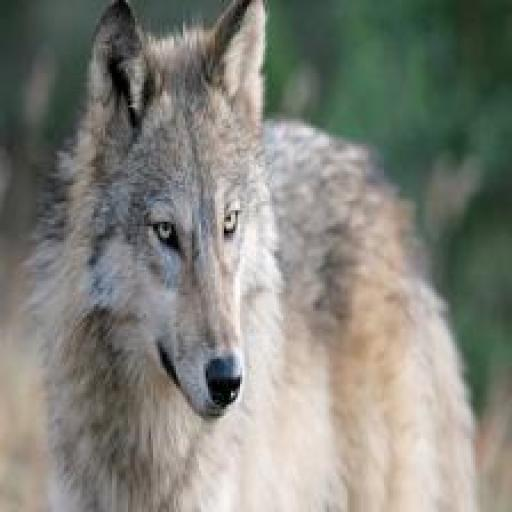wolf: (23, 0, 467, 512)
